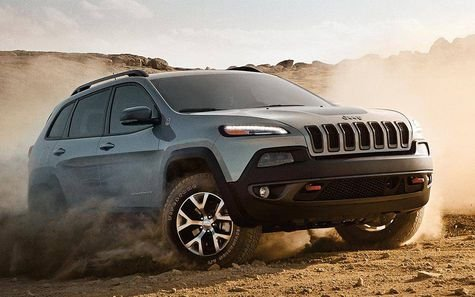mobil: (24, 63, 445, 275)
